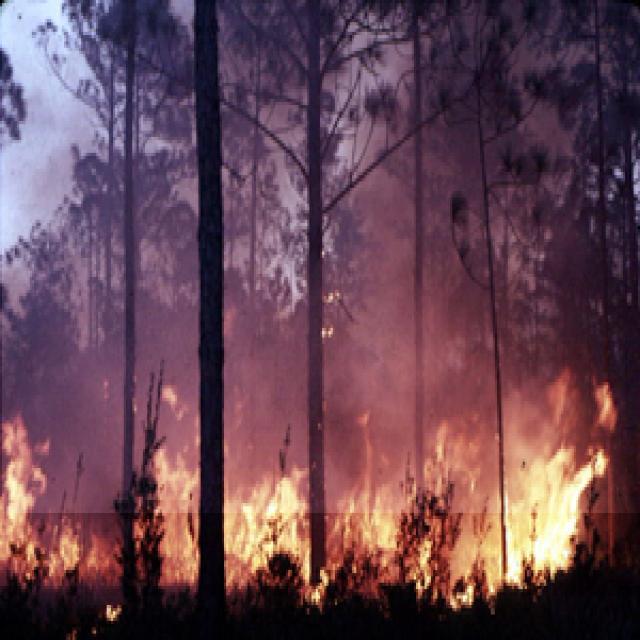Fire: (0, 402, 631, 596)
Smoke: (2, 0, 640, 513)
